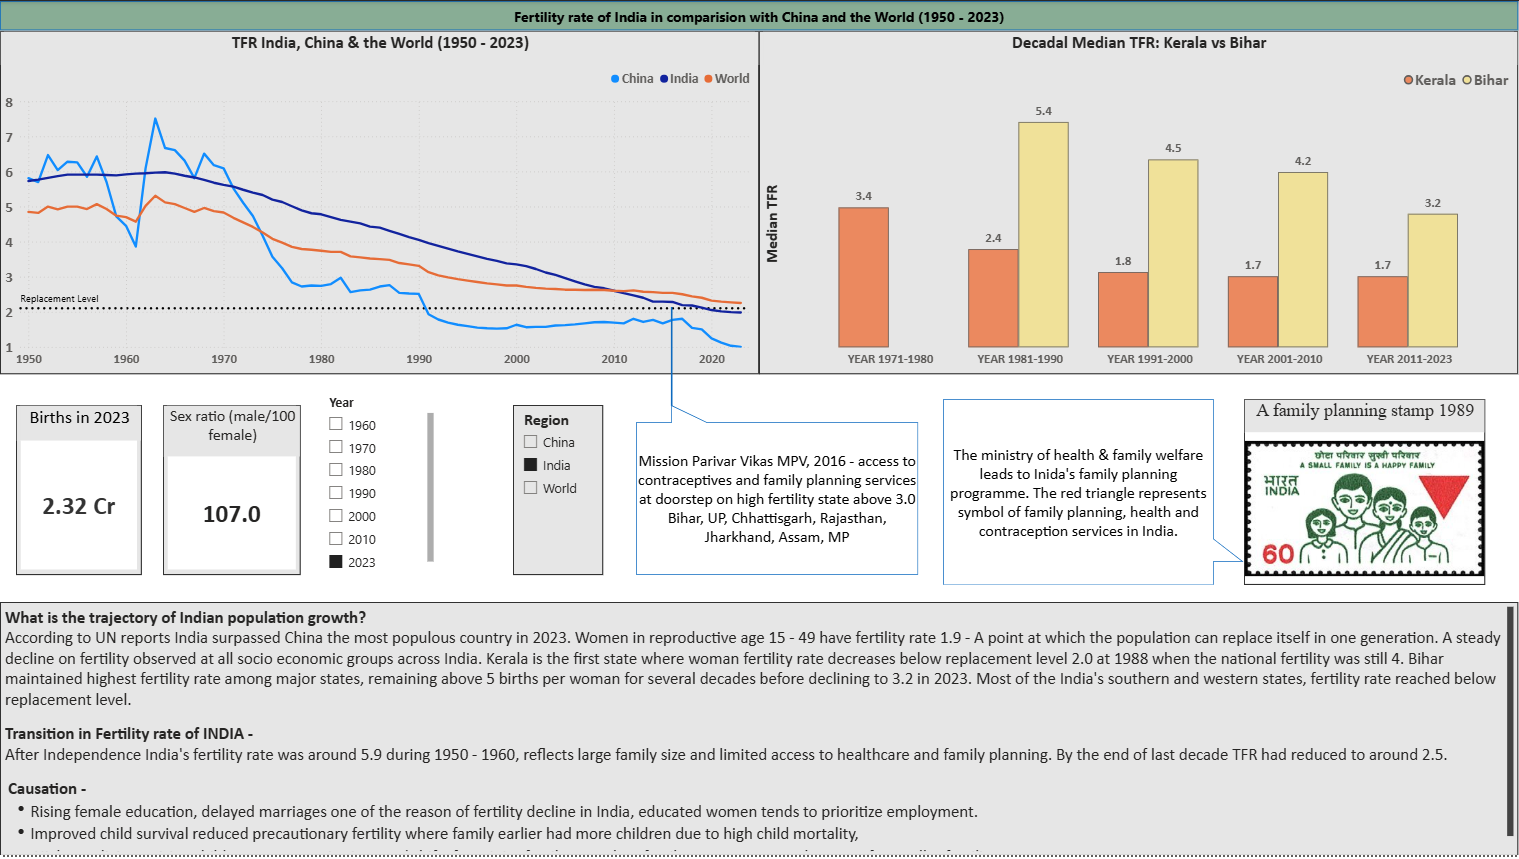

The page's visual inventory and layout, read from the dashboard file:
{"tool":"powerbi","page":{"name":"Page 5","canvas":[1920,1080],"ordinal":4},"visuals":[{"type":"shape","box":[0,0,1920,37.1],"z":0},{"type":"lineChart","title":"TFR India, China & the World (1950 - 2023)","fields":{"Category":["public fertility.year_"],"Y":["Sum(public fertility.tfr_)"],"Series":["public fertility.rsc_"]},"box":[0,37.9,959.9,433.8],"z":1000},{"type":"clusteredColumnChart","title":"Decadal Median TFR: Kerala vs Bihar","fields":{"Y":["Sum(Median TFR by Year Location.state_median_tfr)"],"Series":["Median TFR by Year Location.location"],"Category":["Median TFR by Year Location.year_group"]},"box":[960,37.5,960,434],"z":2000},{"type":"textbox","box":[0,759.5,1920,320.9],"z":3000},{"type":"image","title":"A family planning stamp 1989","box":[1573.3,503.3,304.7,235.3],"z":4000},{"type":"shape","box":[1192.9,503.3,380.4,235.5],"z":5000},{"type":"shape","box":[803.9,511.4,357.1,214.8],"z":6000},{"type":"shape","box":[838.4,386.8,22,125.5],"z":7000},{"type":"cardVisual","title":"Births in 2023","fields":{"Data":["births and sex ratio over 10 years period.Births in lakh/crore"]},"box":[20.4,511.4,159.1,214.9],"z":8000},{"type":"slicer","fields":{"Values":["births and sex ratio over 10 years period.rsc_"]},"box":[648.8,511.4,114.3,214.9],"z":9000},{"type":"cardVisual","title":"Sex ratio (male/100 female)","fields":{"Data":["Sum(births and sex ratio over 10 years period.srb_)"]},"box":[206.8,511.4,174.1,214.9],"z":10000},{"type":"slicer","fields":{"Values":["births and sex ratio over 10 years period.year_"]},"box":[404,492.4,149.6,234],"z":11000}]}

Visuals, with their boxes in screenshot pixels (x1, y1, x2, y2), scaled from the page's 1920x1080 canvas onto the 1519x859 screenshot:
shape: <region>0, 0, 1518, 30</region>
"TFR India, China & the World (1950 - 2023)" lineChart: <region>0, 30, 759, 375</region>
"Decadal Median TFR: Kerala vs Bihar" clusteredColumnChart: <region>760, 30, 1518, 375</region>
textbox: <region>0, 604, 1518, 858</region>
"A family planning stamp 1989" image: <region>1245, 400, 1486, 587</region>
shape: <region>944, 400, 1245, 588</region>
shape: <region>636, 407, 919, 578</region>
shape: <region>663, 308, 681, 407</region>
"Births in 2023" cardVisual: <region>16, 407, 142, 578</region>
slicer - births and sex ratio over 10 years period.rsc_: <region>513, 407, 604, 578</region>
"Sex ratio (male/100 female)" cardVisual: <region>164, 407, 301, 578</region>
slicer - births and sex ratio over 10 years period.year_: <region>320, 392, 438, 578</region>
